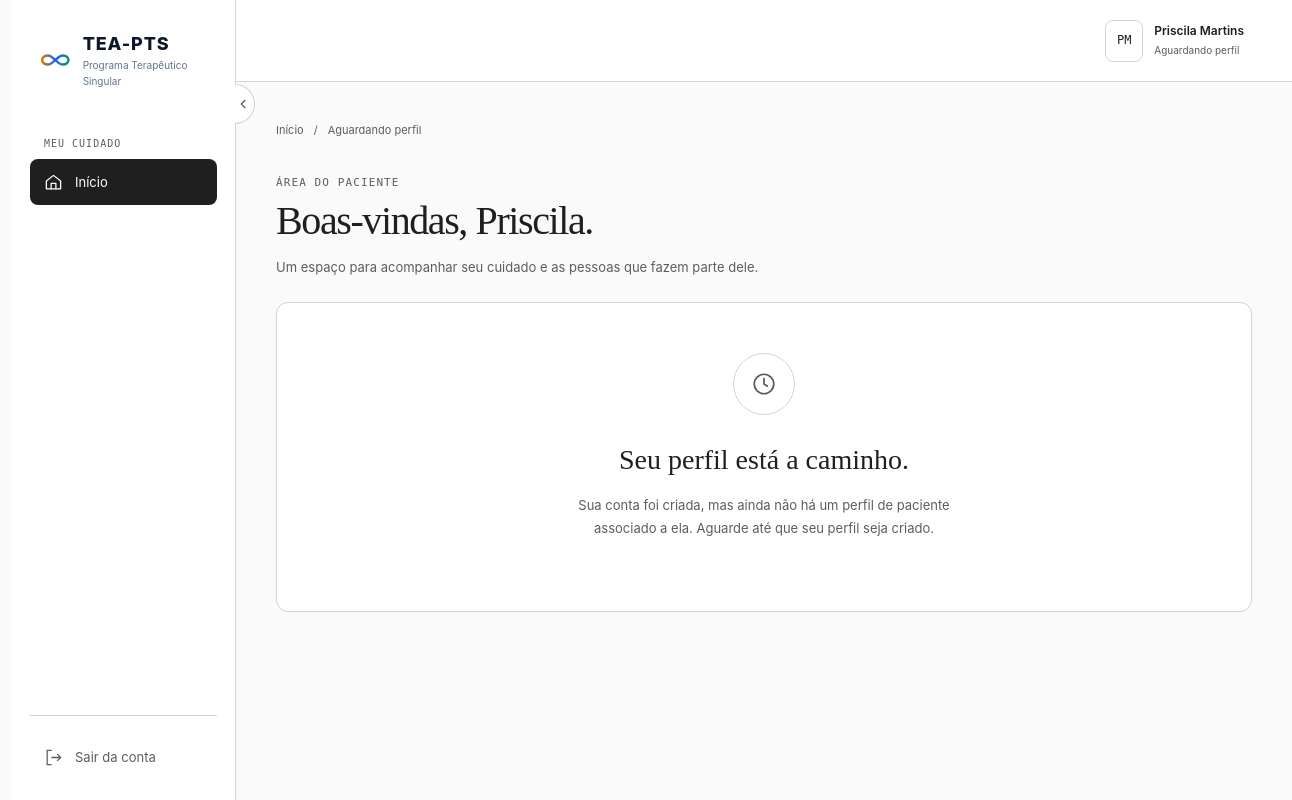
Test: HomePage › recolhe e expande a barra lateral
Click the button named "Recolher barra lateral" at coordinates (245, 104), box x1=235 y1=84 x2=255 y2=124
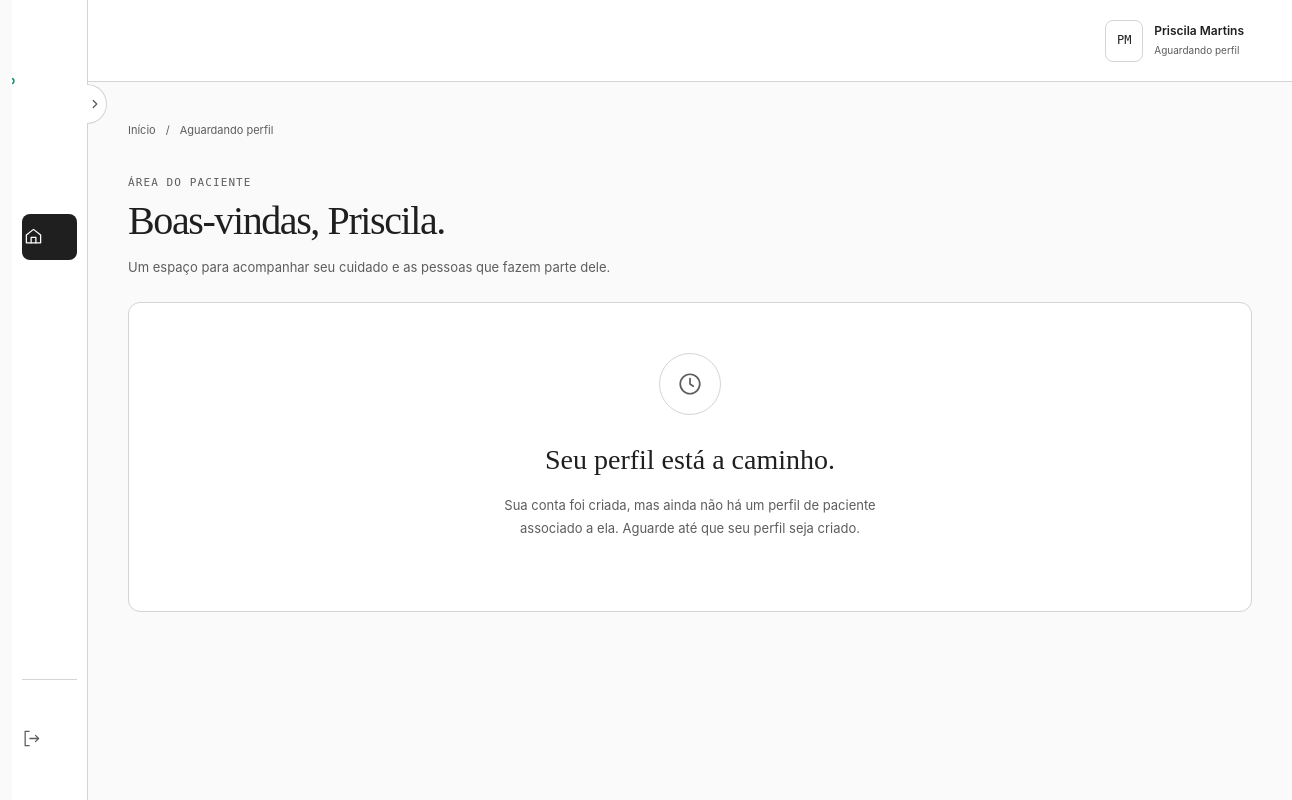
Check: the button named "Expandir barra lateral" is collapsed, box x1=87 y1=84 x2=107 y2=124
